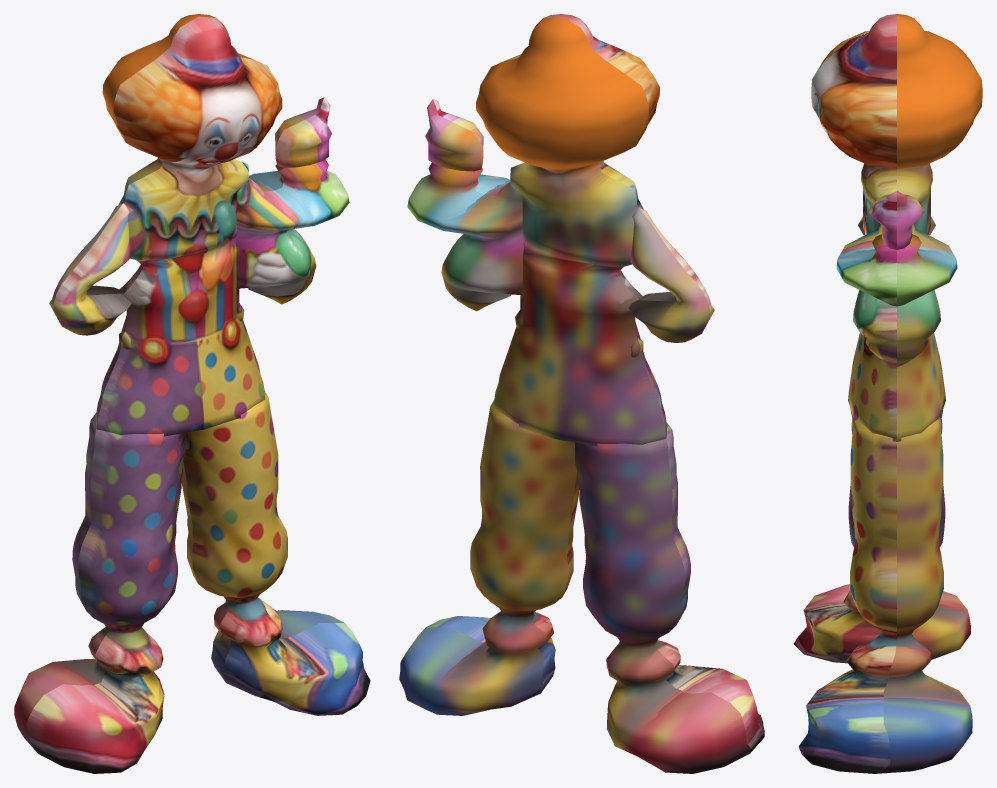
File: char_clown.glb
3 renders of one model, left to right at view 1: azimuth 30°, elevation 25°; view 2: azimuth 150°, elevation 25°; view 3: azimuth 270°, elevation 25°, orthographic. The views are drawn at different scales.
Visible parts, largest first — view 1: Torso, LegA, LegB, ArmB, ArmA; view 2: Torso, LegA, LegB, ArmB, ArmA; view 3: LegB, Torso, ArmB, LegA.
Part boxes in pixels (x1=…): Torso: x1=95, y1=14, x2=331, y2=436; LegA: x1=14, y1=413, x2=185, y2=773; LegB: x1=181, y1=391, x2=370, y2=715; ArmB: x1=235, y1=159, x2=349, y2=321; ArmA: x1=49, y1=203, x2=133, y2=349; Torso: x1=425, y1=14, x2=667, y2=446; LegA: x1=575, y1=422, x2=764, y2=773; LegB: x1=399, y1=400, x2=578, y2=715; ArmB: x1=407, y1=162, x2=523, y2=328; ArmA: x1=628, y1=207, x2=714, y2=357; LegB: x1=798, y1=417, x2=972, y2=773; Torso: x1=811, y1=14, x2=982, y2=441; ArmB: x1=836, y1=224, x2=957, y2=367; LegA: x1=793, y1=410, x2=970, y2=663.
Size of the model in its own units: 0.7392 by 1.52 by 0.3686.
Materials: 1 (1 with a texture image).
